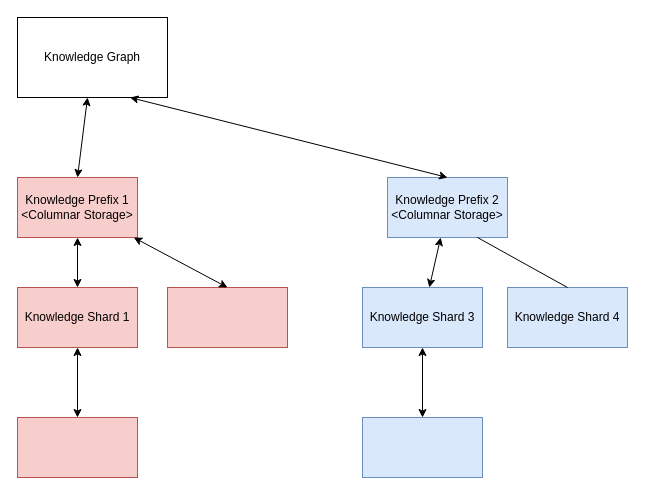
Some shapes in this 645 by 495 pixel diagram are drawn without their labels. Each missing label, with the centre of its shape:
AI Sub Model 1: the point at 77,447
AI Sub Model 2: the point at 422,447
Knowledge Shard 2: the point at 227,317
